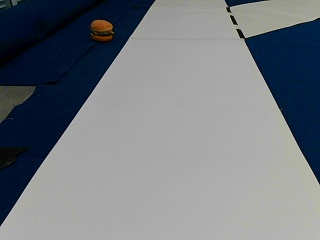burger: (89, 17, 114, 41)
